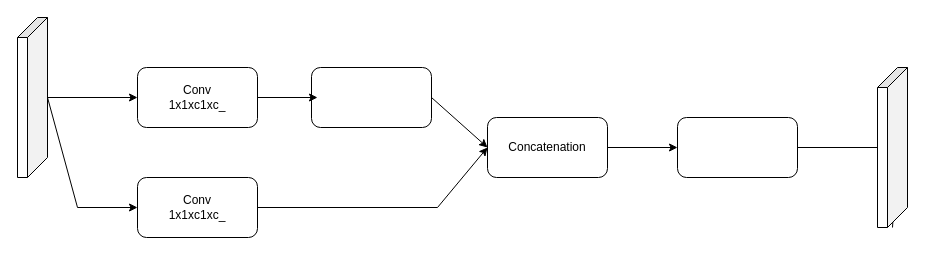
This 925x255 diagram has some shape labels left out. Each missing label, with the centre of its shape:
Bottleneck: [371,97]
Conv 1x1xc_xc2: [737,147]
